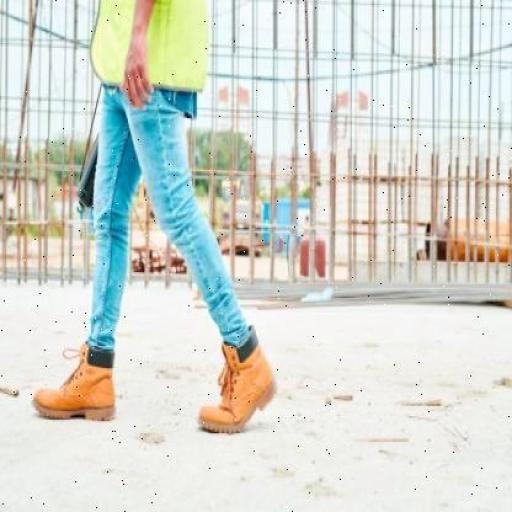safety_shoe: (197, 332, 276, 443), (29, 348, 117, 424)
